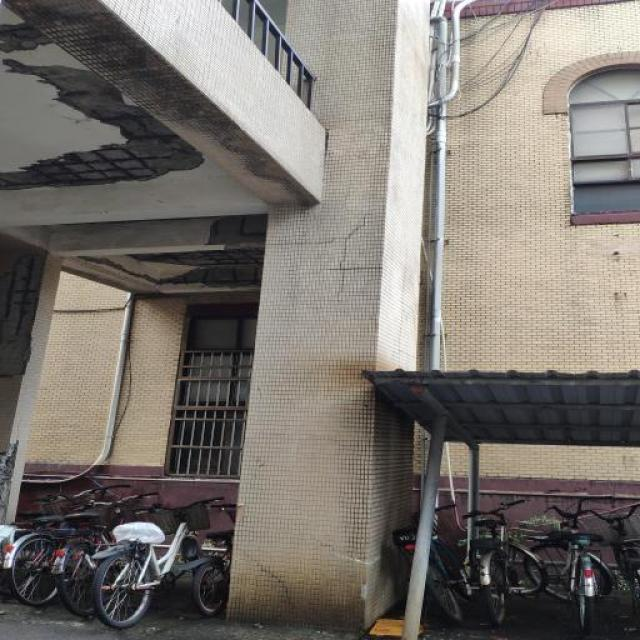D0w0: (0, 59, 201, 190), (0, 255, 40, 375), (149, 250, 261, 284), (0, 21, 54, 52)
